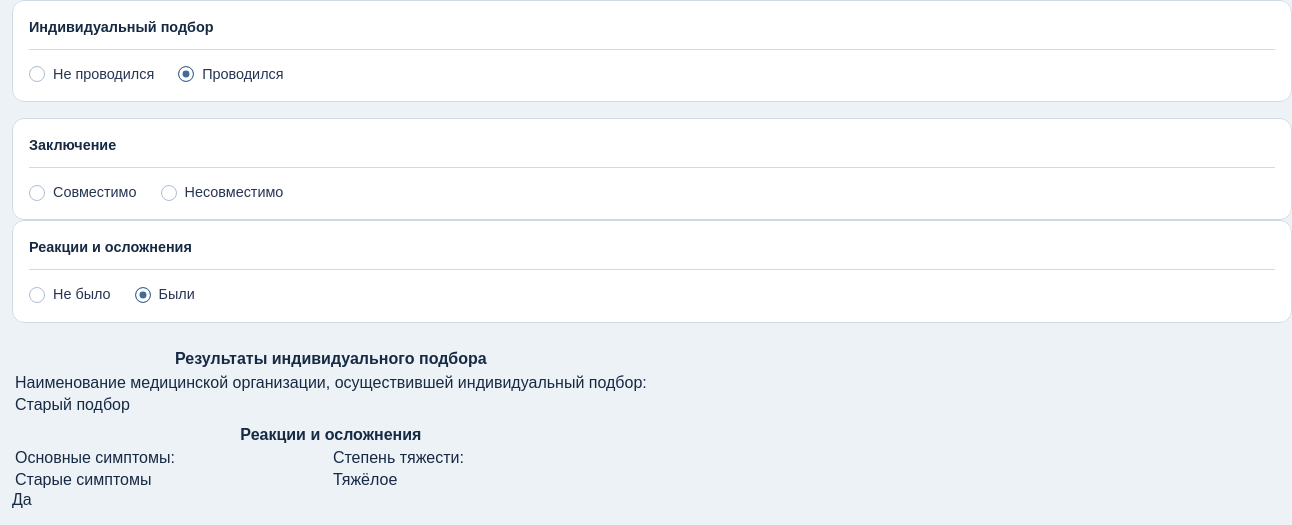
does not infer cancelled selection or complications from retained old details
Click the radio button labelled "Проводился".
click(186, 74)  # box [178, 66, 194, 82]
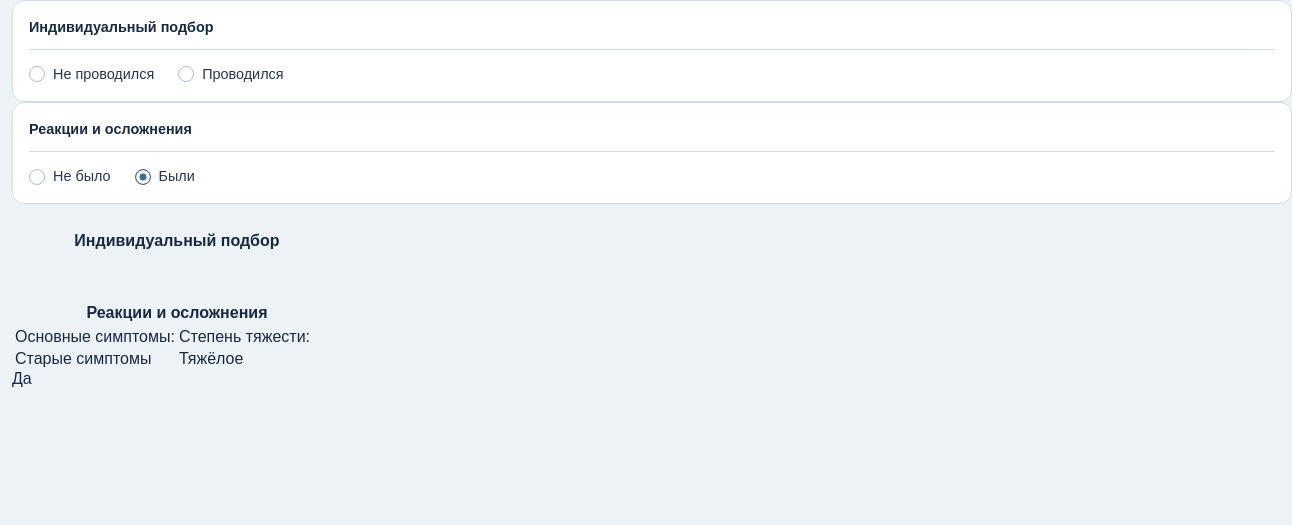
Click the radio button labelled "Были".
click(142, 177)  # box [134, 169, 150, 185]
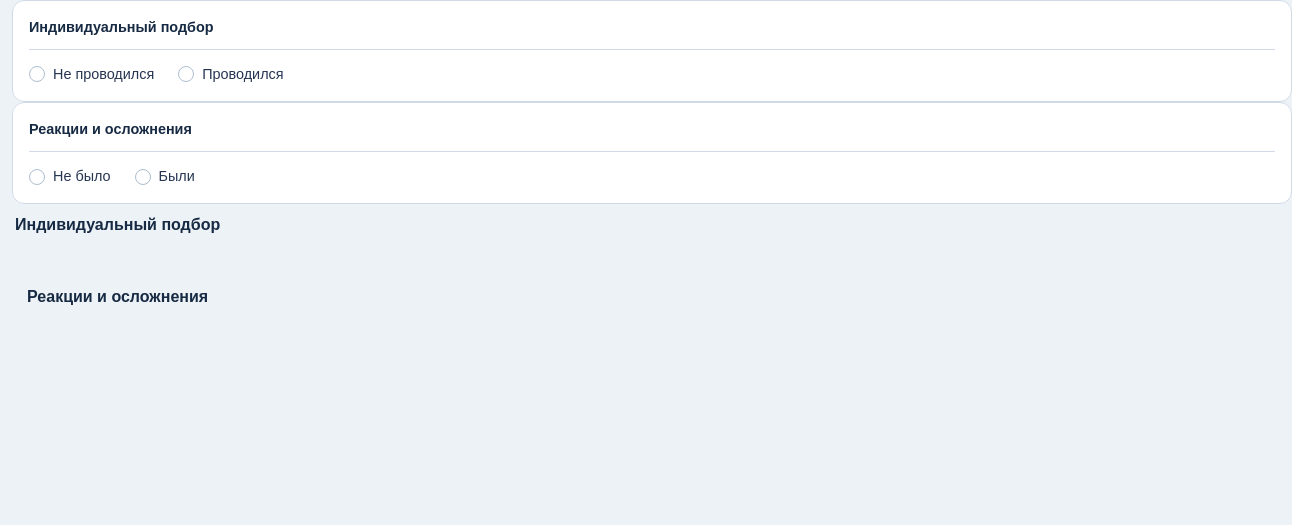
expect the text "Старый подбор" is not shown: met
expect the text "Старые симптомы" is gone: met
